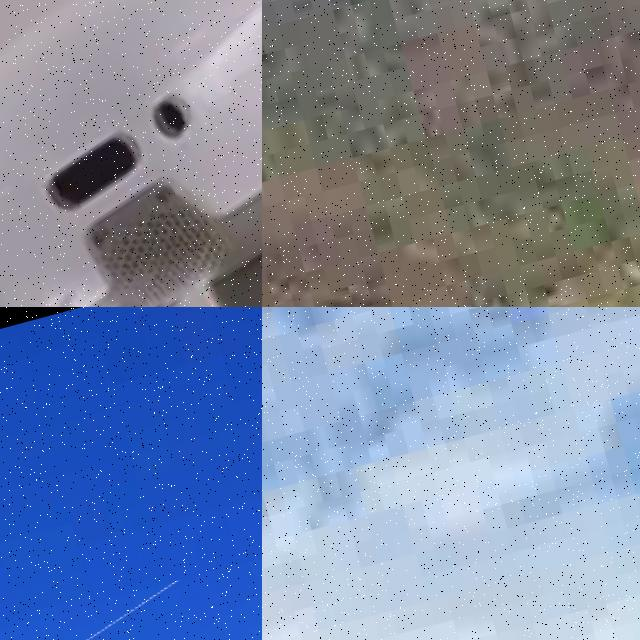0: (0, 497, 262, 640)
drone: (0, 0, 262, 307)
